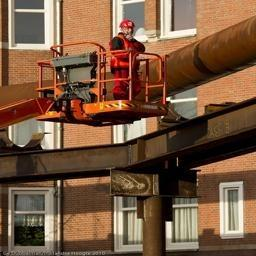hat: (114, 17, 142, 42)
vest: (99, 31, 148, 90)
